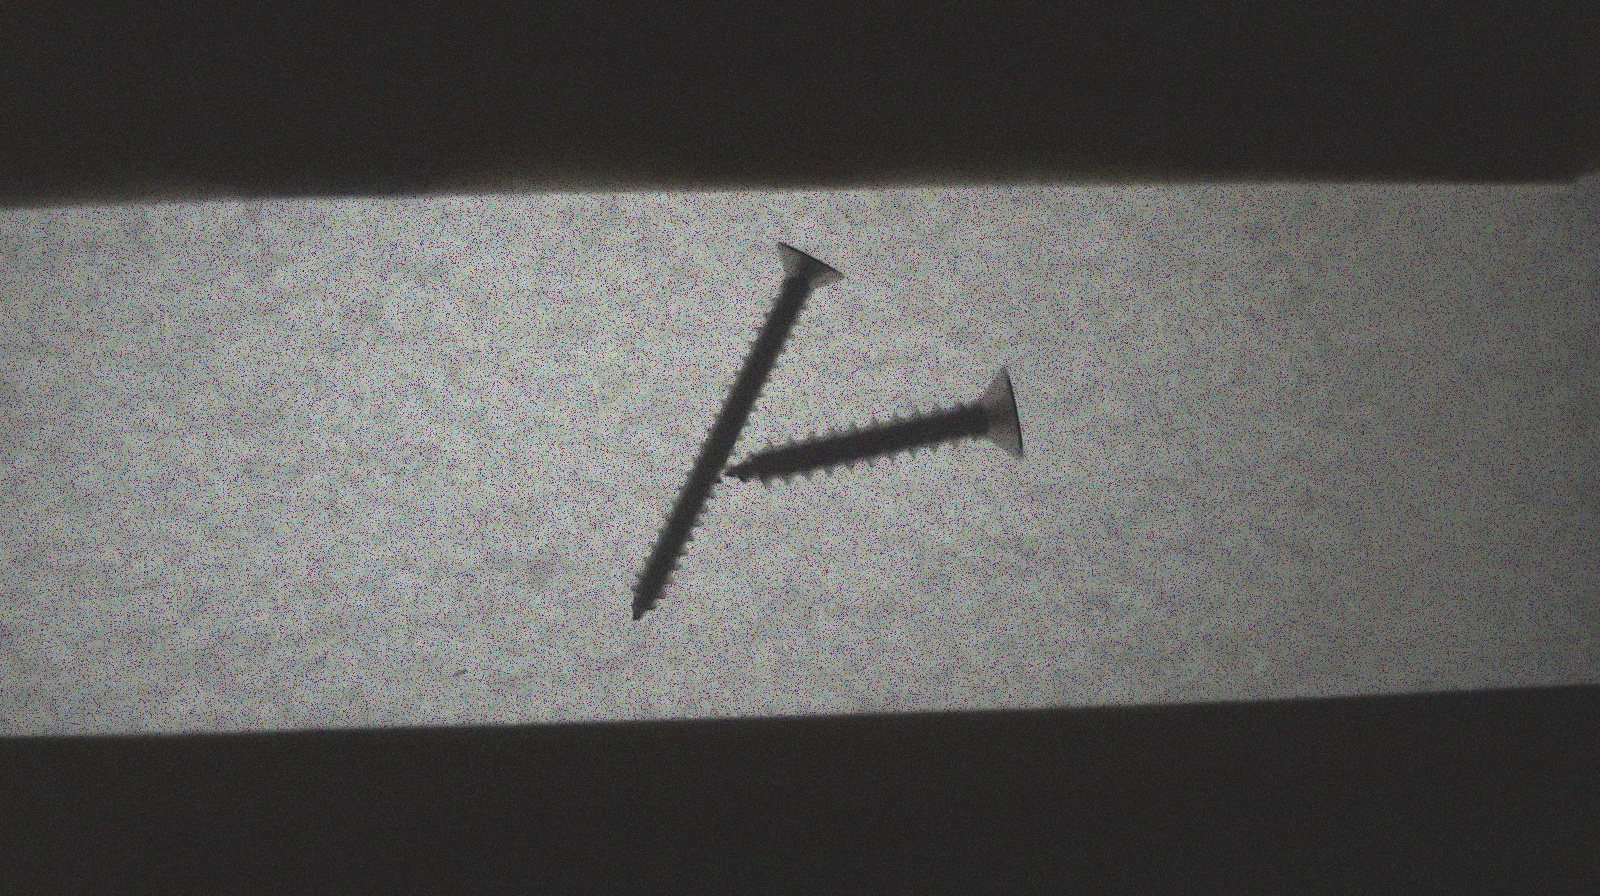S001: (708, 363, 1041, 484)
S002: (624, 234, 854, 626)
